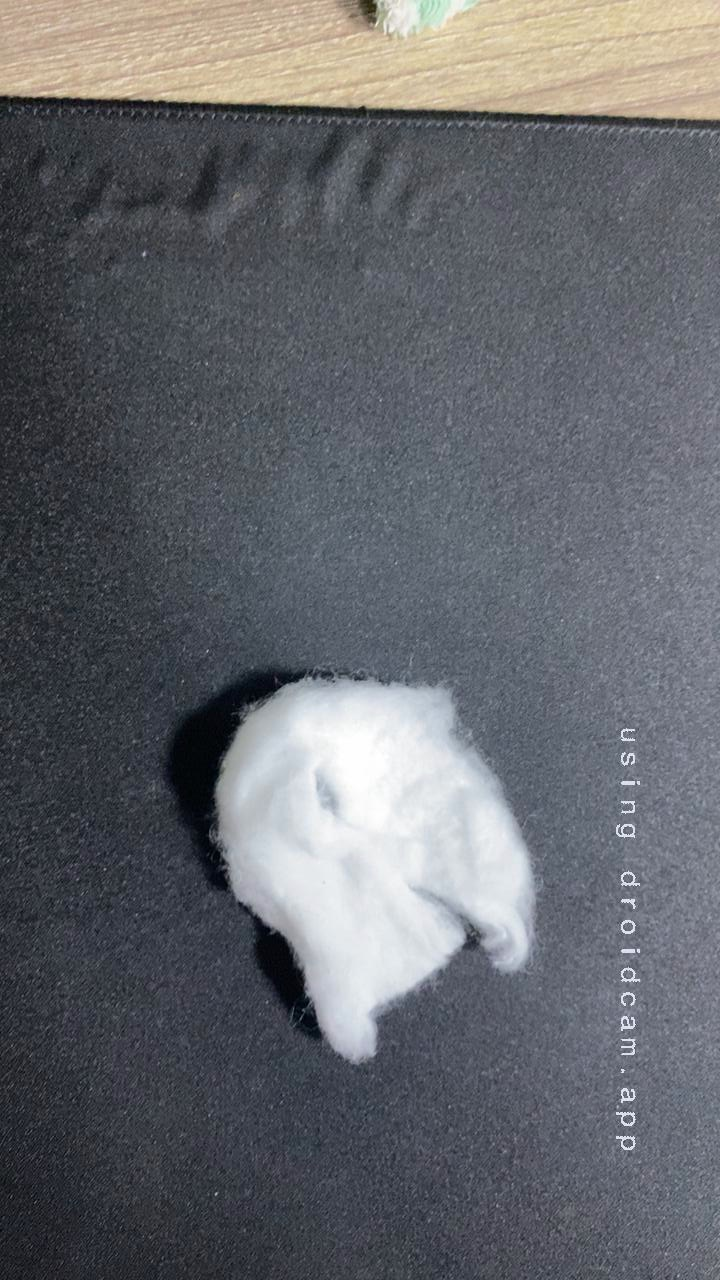cotton: (172, 665, 569, 1066)
